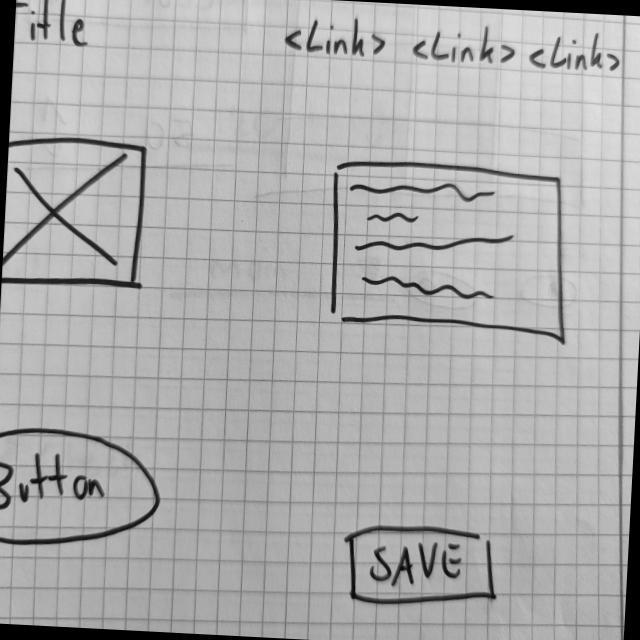button: (1, 423, 166, 555), (343, 521, 500, 613)
image: (2, 134, 151, 299)
label: (15, 1, 98, 52)
link: (280, 11, 392, 68), (412, 20, 522, 72), (528, 28, 625, 81)
textbox: (323, 153, 577, 344)
